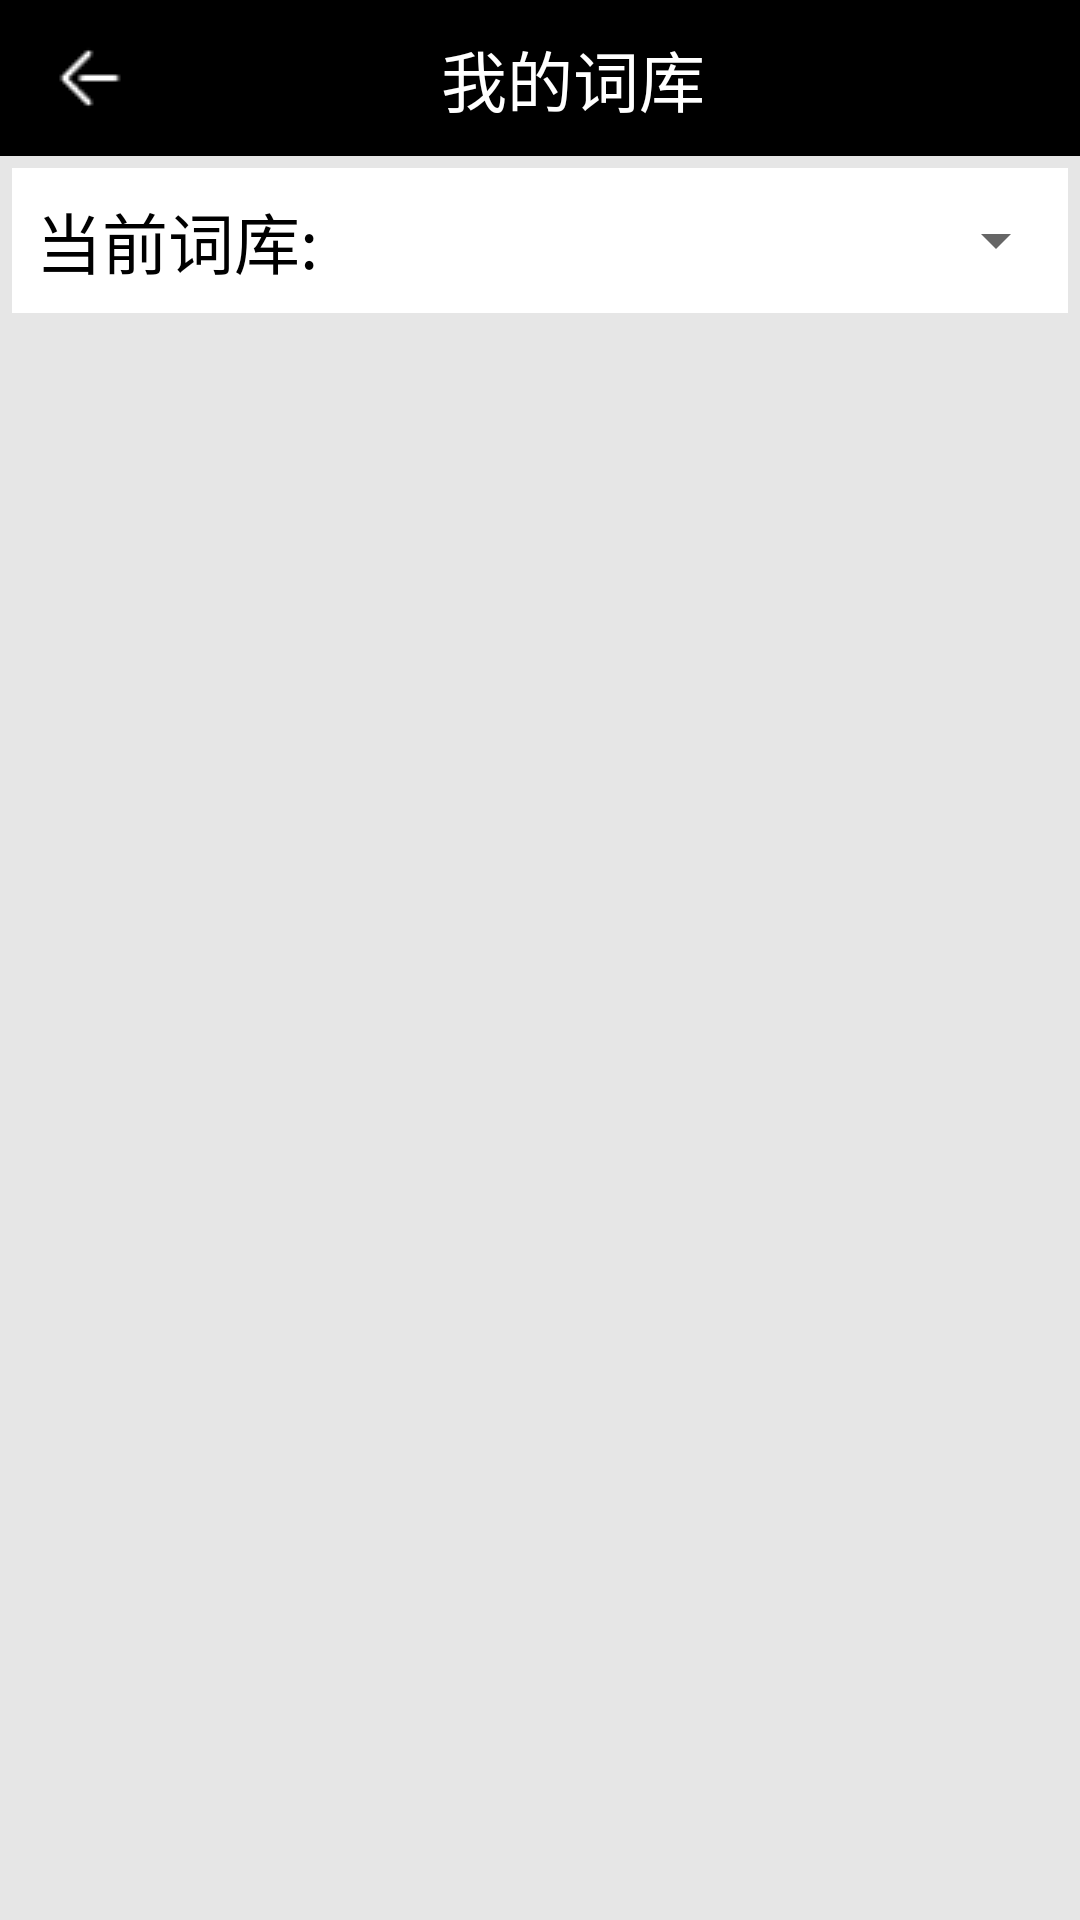

Screen size 1080px x 1920px. Icon name, then its box in pixels as box(x1, y1, x2, y2):
back: box(59, 50, 121, 106)
